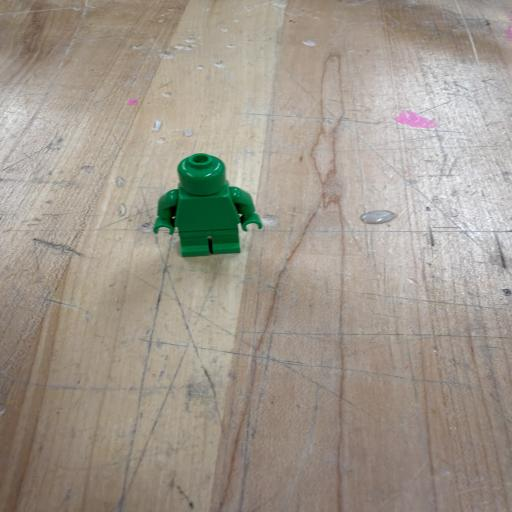Green-Lego: (153, 154, 261, 257)
